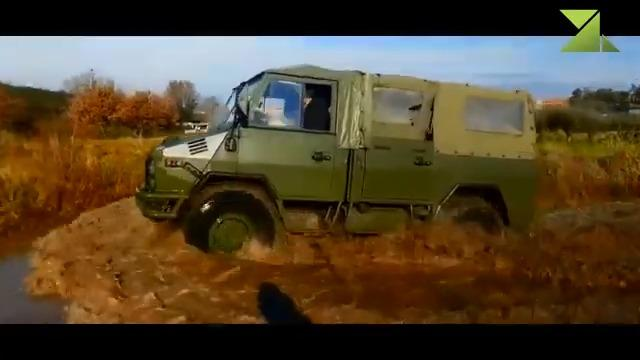MIL_HMMWV: (132, 66, 542, 257)
